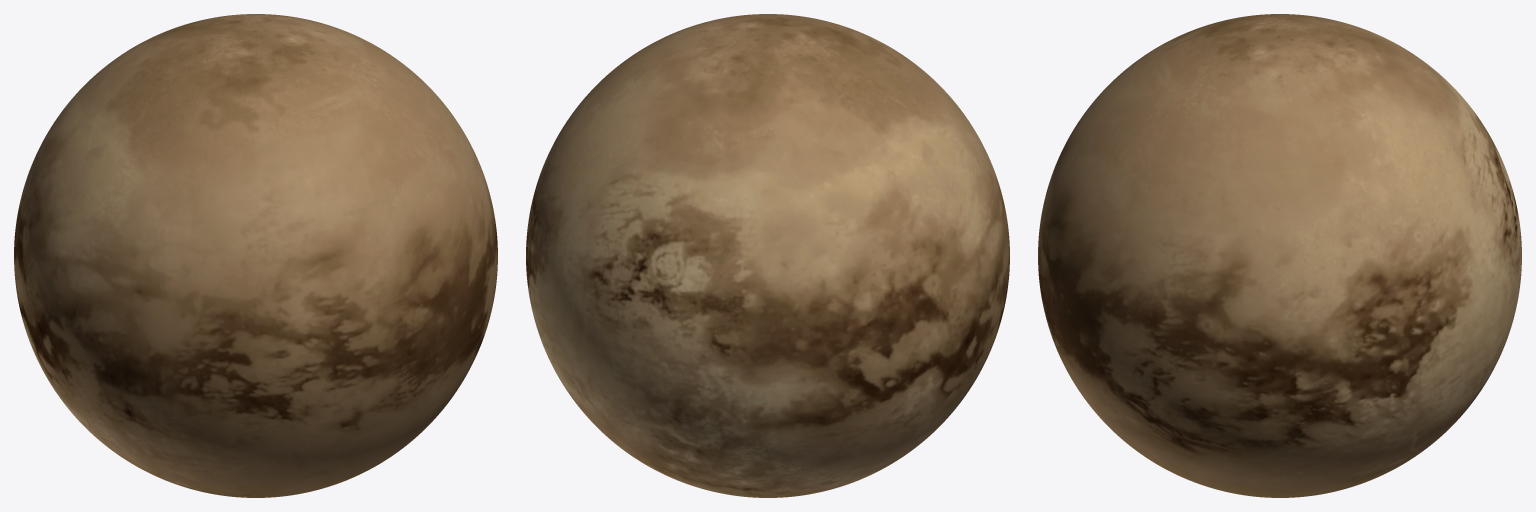
Rendered from titan.glb.
3 views of the same model, side by side, from view 1: azimuth 30°, elevation 25°; view 2: azimuth 150°, elevation 25°; view 3: azimuth 270°, elevation 25° (orthographic).
Parts seen in each view (by area): view 1: Esfera_Mat_0_5, Esfera_Mat_0_6, Esfera_Mat_0_4, Esfera_Mat_0_7, Esfera_Mat_0_3, Esfera_Mat_0_8, Esfera_Mat_0_2, Esfera_Mat_0; view 2: Esfera_Mat_0_7, Esfera_Mat_0_6, Esfera_Mat_0_5, Esfera_Mat_0_4, Esfera_Mat_0_8, Esfera_Mat_0_3, Esfera_Mat_0_2, Esfera_Mat_0; view 3: Esfera_Mat_0_6, Esfera_Mat_0_7, Esfera_Mat_0_5, Esfera_Mat_0_4, Esfera_Mat_0_3, Esfera_Mat_0_2, Esfera_Mat_0, Esfera_Mat_0_8.
Boxes of the visible parts, bbox=[...] form: Esfera_Mat_0_5: bbox=[14, 37, 438, 424]; Esfera_Mat_0_6: bbox=[14, 37, 363, 344]; Esfera_Mat_0_4: bbox=[31, 36, 481, 473]; Esfera_Mat_0_7: bbox=[44, 29, 391, 236]; Esfera_Mat_0_3: bbox=[80, 36, 497, 495]; Esfera_Mat_0_8: bbox=[133, 14, 364, 342]; Esfera_Mat_0_2: bbox=[174, 35, 497, 497]; Esfera_Mat_0: bbox=[257, 30, 453, 326]; Esfera_Mat_0_7: bbox=[553, 30, 979, 239]; Esfera_Mat_0_6: bbox=[526, 20, 1009, 345]; Esfera_Mat_0_5: bbox=[526, 14, 1009, 423]; Esfera_Mat_0_4: bbox=[544, 14, 992, 473]; Esfera_Mat_0_8: bbox=[640, 30, 888, 224]; Esfera_Mat_0_3: bbox=[592, 14, 943, 495]; Esfera_Mat_0_2: bbox=[682, 18, 849, 497]; Esfera_Mat_0: bbox=[587, 25, 766, 473]; Esfera_Mat_0_6: bbox=[1044, 31, 1521, 348]; Esfera_Mat_0_7: bbox=[1143, 19, 1492, 244]; Esfera_Mat_0_5: bbox=[1038, 36, 1521, 424]; Esfera_Mat_0_4: bbox=[1051, 37, 1503, 473]; Esfera_Mat_0_3: bbox=[1091, 37, 1455, 495]; Esfera_Mat_0_2: bbox=[1150, 37, 1357, 497]; Esfera_Mat_0: bbox=[1215, 37, 1279, 497]; Esfera_Mat_0_8: bbox=[1226, 14, 1491, 162].
Size of the model in its own units: 300 by 300 by 300.
1 material, 1 textured.
